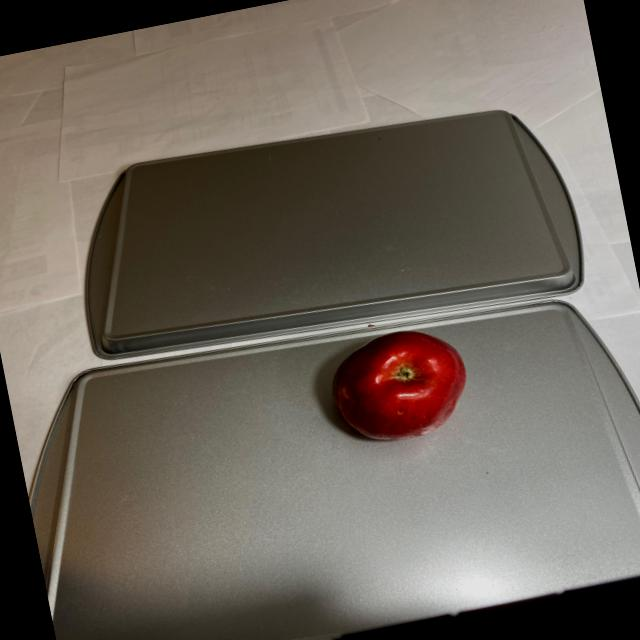apple: (324, 321, 476, 452)
